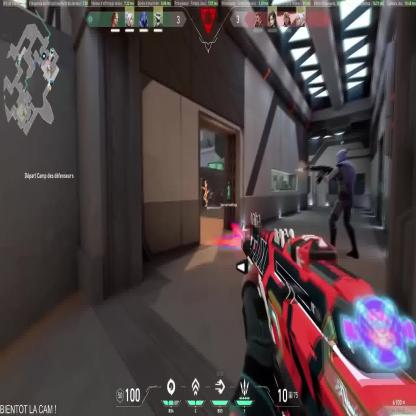enemy: (203, 180, 209, 208)
enemy_head: (204, 180, 207, 186)
